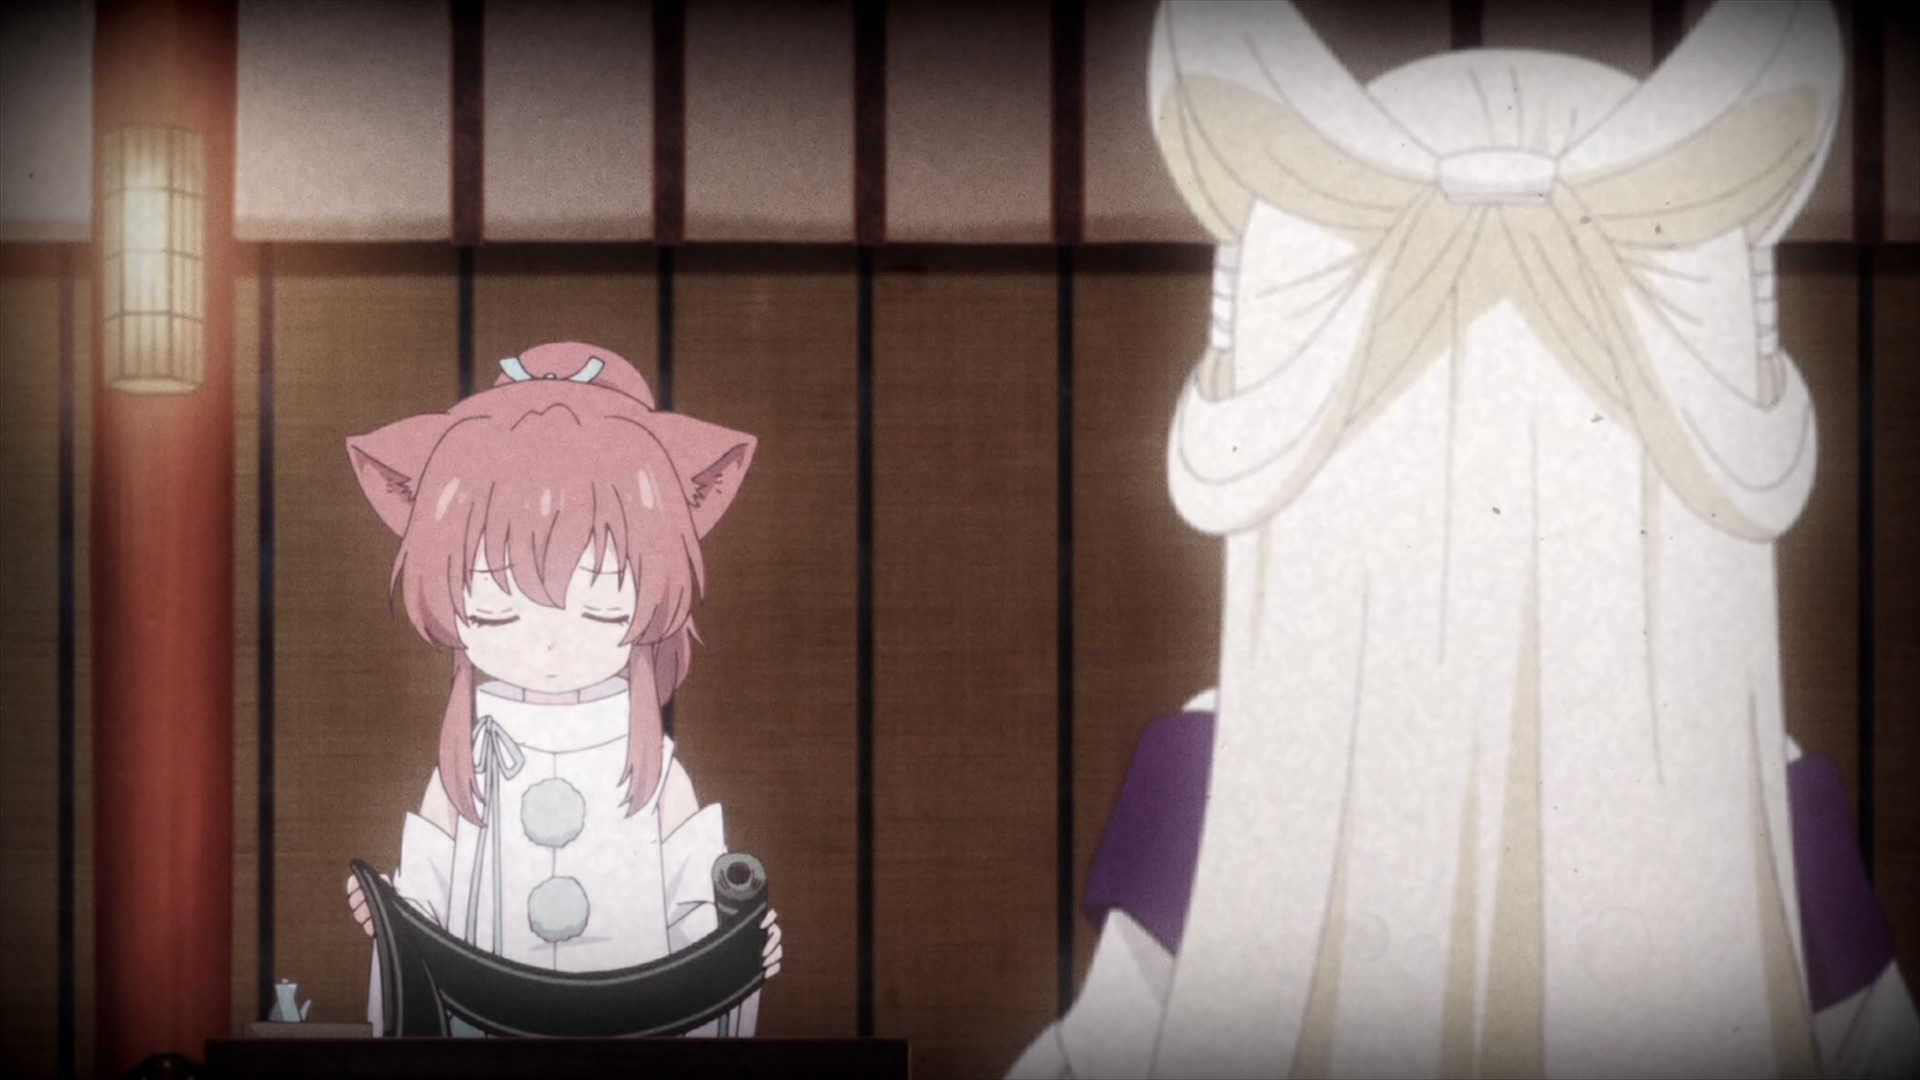其他: (1005, 1, 1920, 1080)
椿: (345, 342, 781, 1034)
